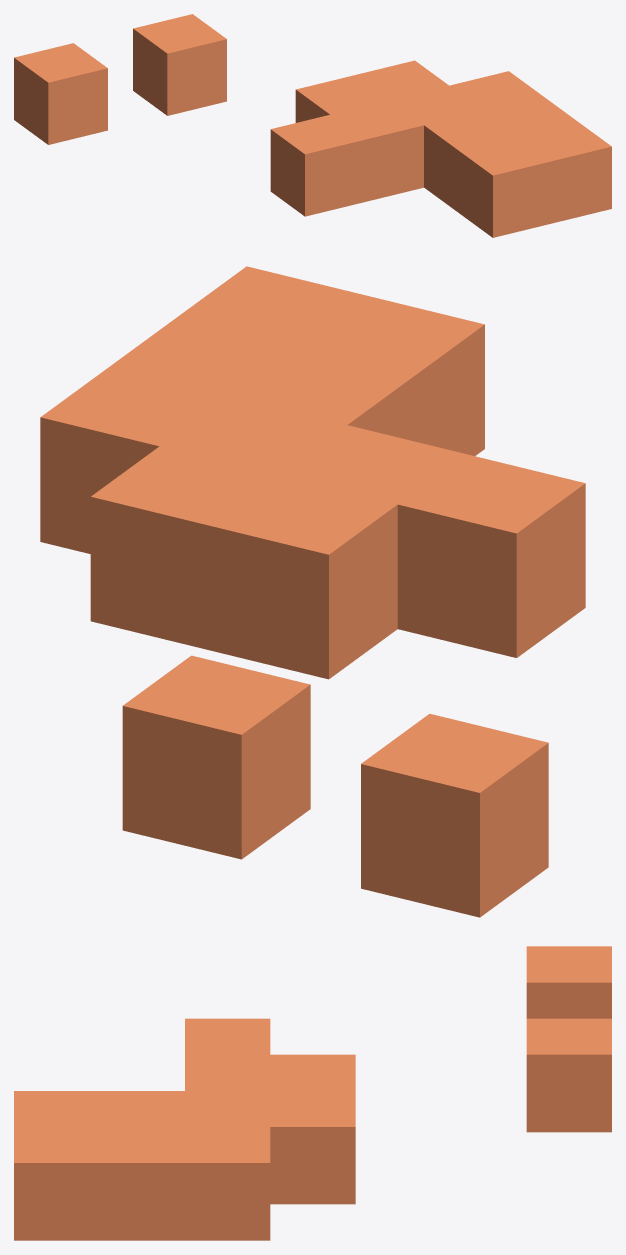
File: obj_splatter1.fbx
3 views of the same model, one above another, from view 1: azimuth 30°, elevation 25°; view 2: azimuth 150°, elevation 25°; view 3: azimuth 270°, elevation 25° (orthographic). The views are drawn at different scales.
Parts seen in each view (by area): view 1: obj_splatter1; view 2: obj_splatter1; view 3: obj_splatter1.
Boxes of the visible parts, x1,y1,x2,y2 form: obj_splatter1: (14, 14, 611, 237); obj_splatter1: (40, 266, 585, 917); obj_splatter1: (14, 946, 611, 1240).
Size of the model in its own units: 0.6 by 0.7 by 0.1.
Materials: 1 (1 with a texture image).
